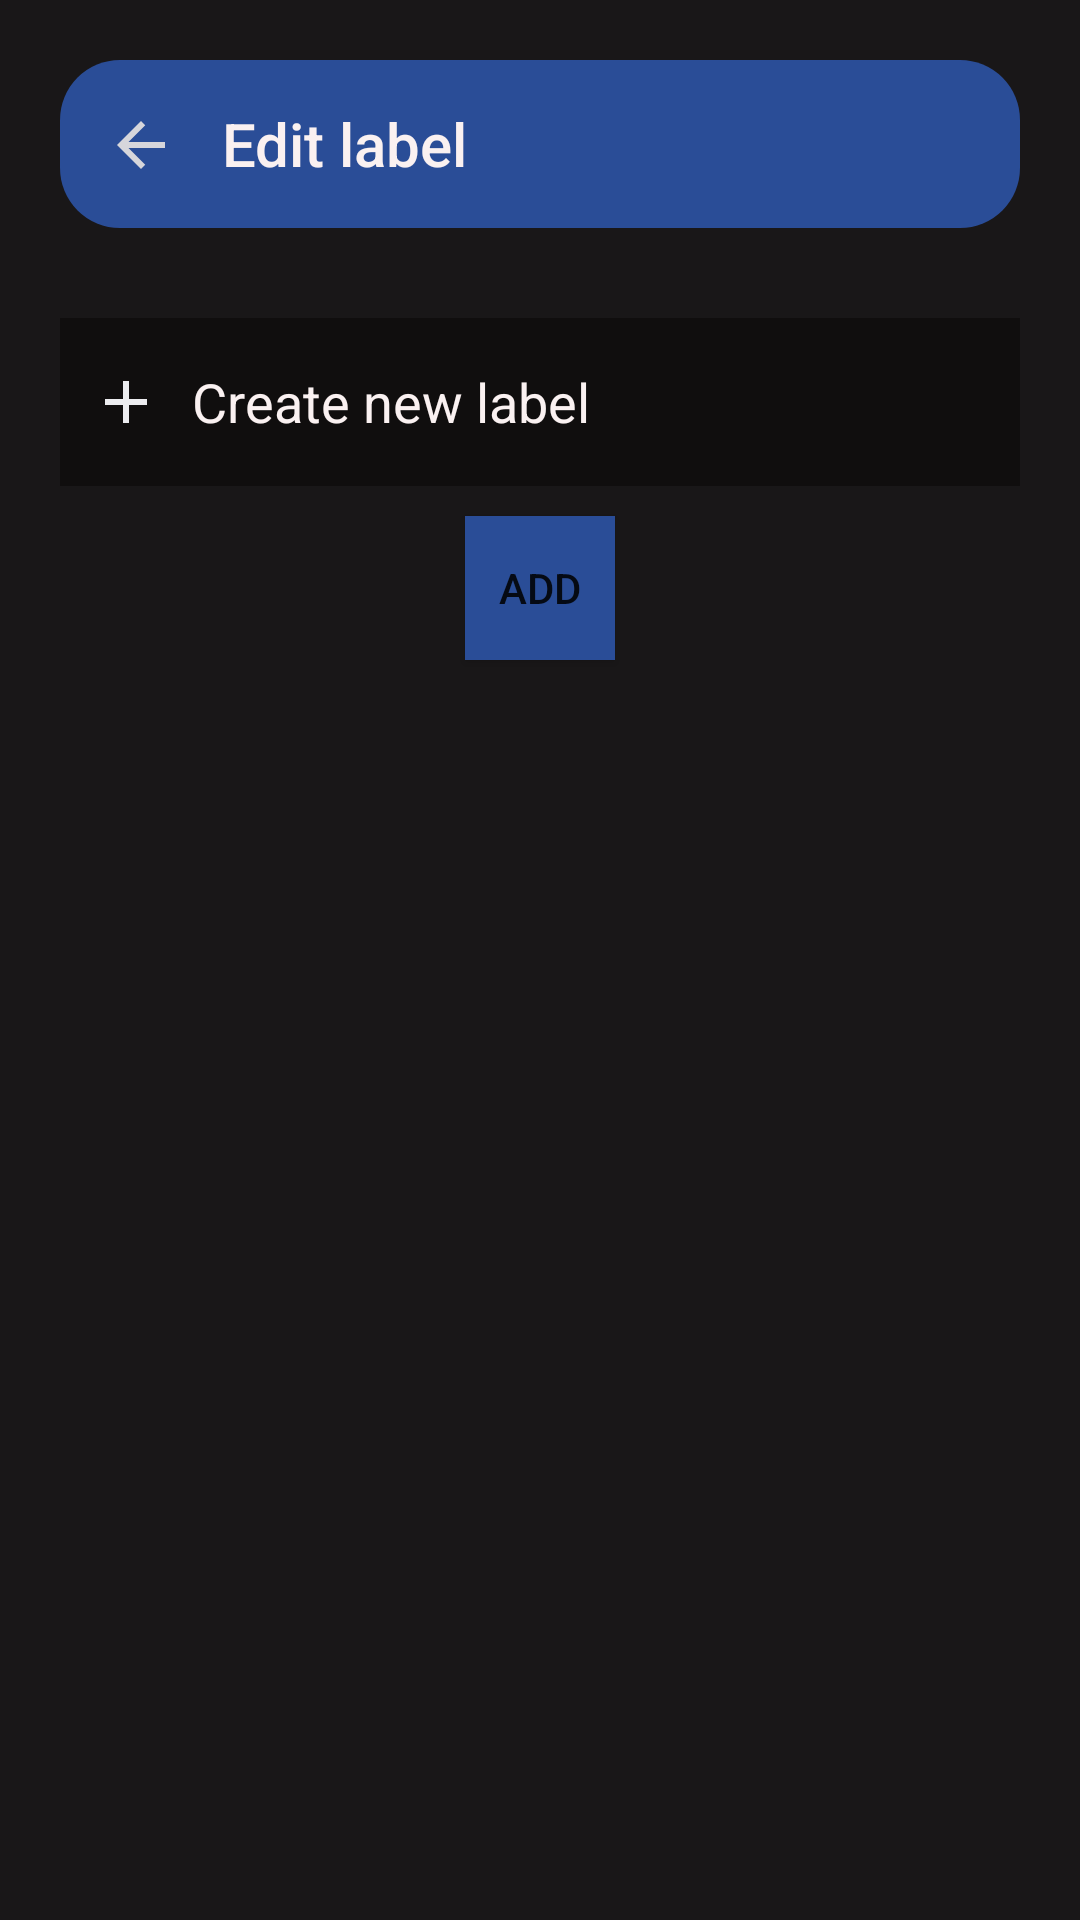

Where icons sit on this 1080px×1920px app screen, as (x1, y1, x2, y2):
arrow back: (117, 121, 165, 169)
